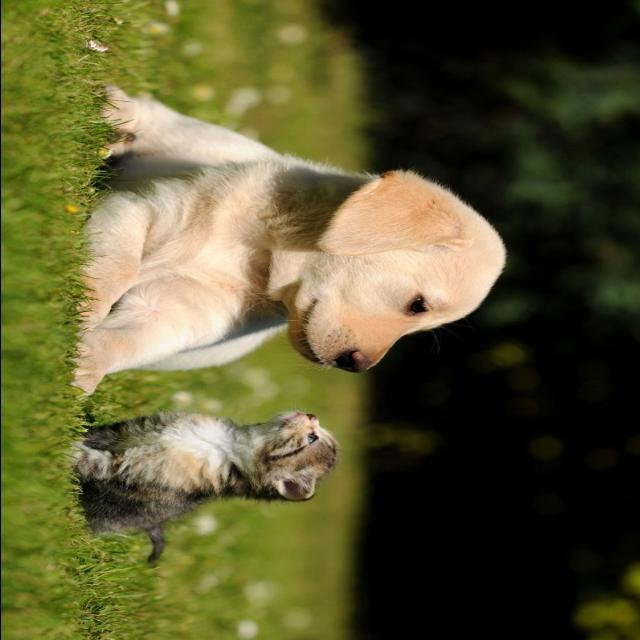dog: (50, 88, 528, 400), (52, 404, 352, 572)
